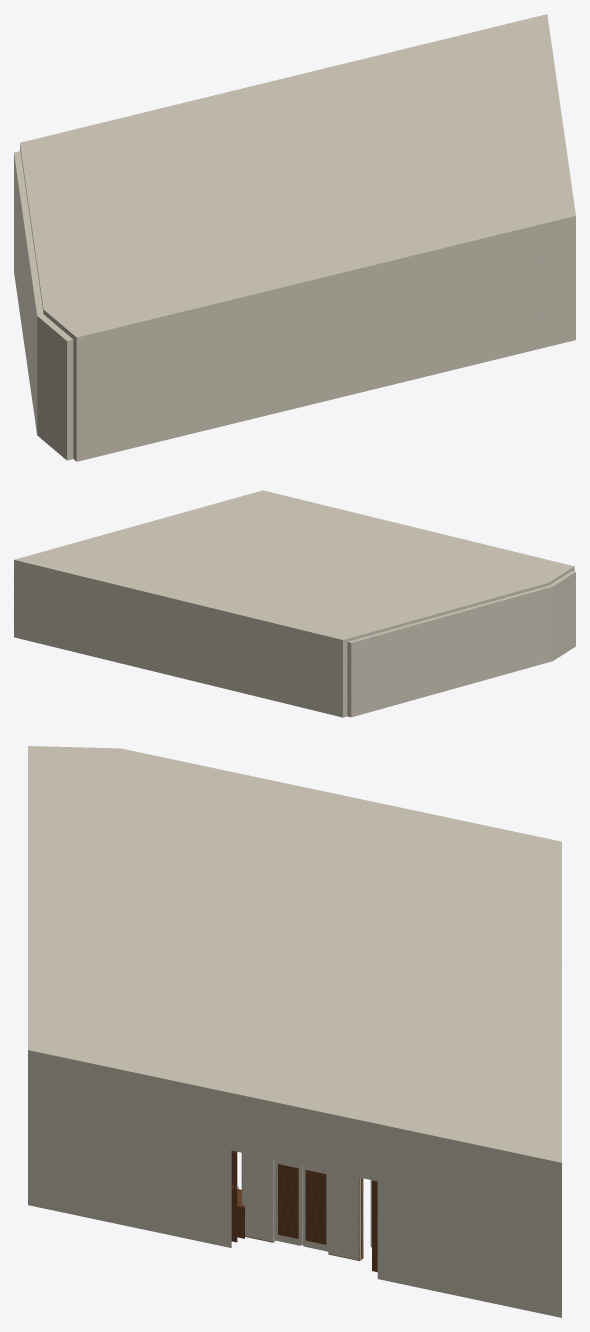
The picture shows the model from 3 angles, top to bottom: view 1: azimuth 30°, elevation 25°; view 2: azimuth 150°, elevation 25°; view 3: azimuth 270°, elevation 25°; orthographic projection. The views are drawn at different scales.
Visible parts, largest first — view 1: PremiumPressureClosure, AftPartyWall, HeldFrontageOpaqueEnclosure, InnerAftPartyReturn; view 2: PremiumPressureClosure, ForePartyWall, HeldFrontageOpaqueEnclosure; view 3: PremiumPressureClosure, InnerAftPartyReturn, InnerForePartyReturn, ArrivalHeader, PrivateEntry_01_ENTRY_PocketSkin_-1_1, PrivateEntry_01_ENTRY_PocketSkin_1_1, PrivateEntry_01_ENTRY_TimberInset_LEFT_1, PrivateEntry_01_ENTRY_TimberInset_RIGHT_1, AftPartyWall, PrivateEntry_01_ENTRY_MovingPanel_RIGHT, PrivateEntry_01_ENTRY_MovingPanel_LEFT.
Part boxes in pixels (bbox=[...]): PremiumPressureClosure: bbox=[20, 14, 575, 342]; AftPartyWall: bbox=[73, 221, 575, 461]; HeldFrontageOpaqueEnclosure: bbox=[14, 151, 73, 460]; InnerAftPartyReturn: bbox=[569, 220, 575, 341]; PremiumPressureClosure: bbox=[14, 490, 574, 642]; ForePartyWall: bbox=[14, 563, 347, 717]; HeldFrontageOpaqueEnclosure: bbox=[347, 571, 575, 717]; PremiumPressureClosure: bbox=[28, 746, 561, 1168]; InnerAftPartyReturn: bbox=[28, 1056, 231, 1247]; InnerForePartyReturn: bbox=[377, 1130, 561, 1317]; ArrivalHeader: bbox=[231, 1099, 377, 1181]; PrivateEntry_01_ENTRY_PocketSkin_-1_1: bbox=[328, 1171, 360, 1260]; PrivateEntry_01_ENTRY_PocketSkin_1_1: bbox=[241, 1153, 274, 1241]; PrivateEntry_01_ENTRY_TimberInset_LEFT_1: bbox=[305, 1170, 326, 1244]; PrivateEntry_01_ENTRY_TimberInset_RIGHT_1: bbox=[278, 1164, 298, 1238]; AftPartyWall: bbox=[28, 1056, 37, 1206]; PrivateEntry_01_ENTRY_MovingPanel_RIGHT: bbox=[275, 1160, 302, 1245]; PrivateEntry_01_ENTRY_MovingPanel_LEFT: bbox=[302, 1165, 328, 1251].
Size of the model in its own units: 25.87 by 4.45 by 13.88.
158 materials, 152 textured.
